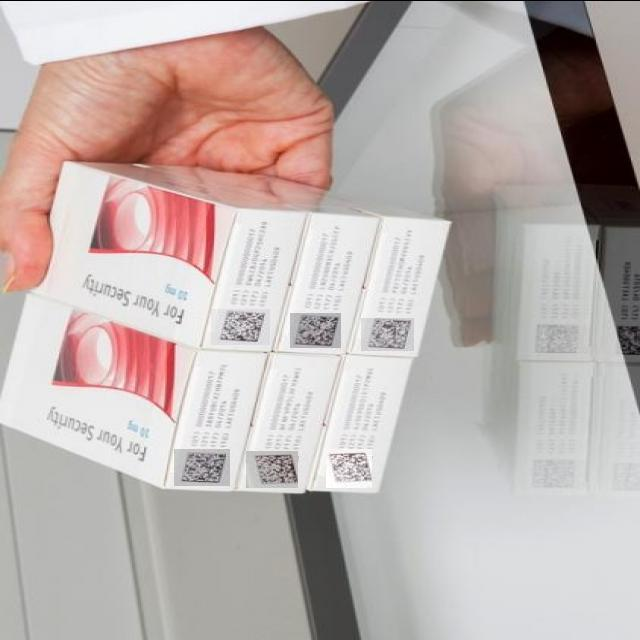Data-Matrix: (211, 308, 270, 344), (175, 448, 231, 485), (246, 450, 298, 487), (326, 448, 372, 487), (290, 312, 341, 347), (361, 317, 414, 350)
